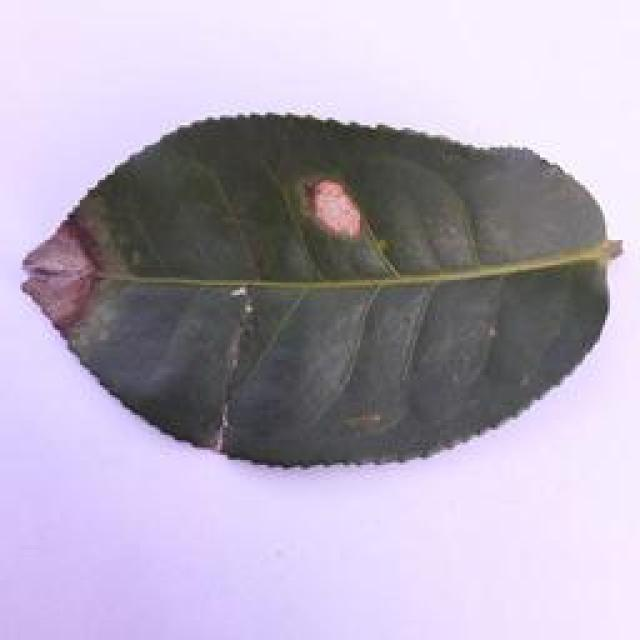Gray Blight: (8, 107, 626, 480)
